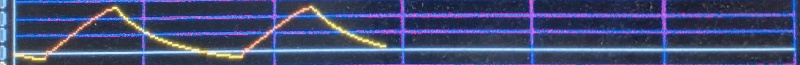normal_volume: (30, 0, 392, 65)
